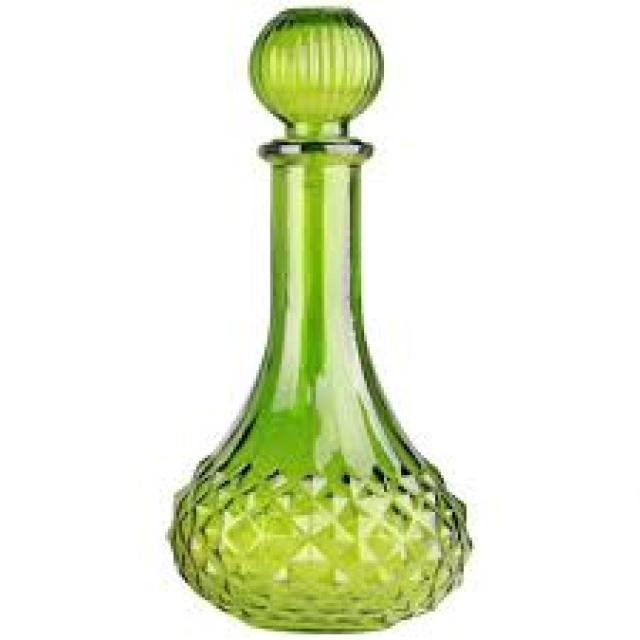glass: (165, 6, 472, 632)
